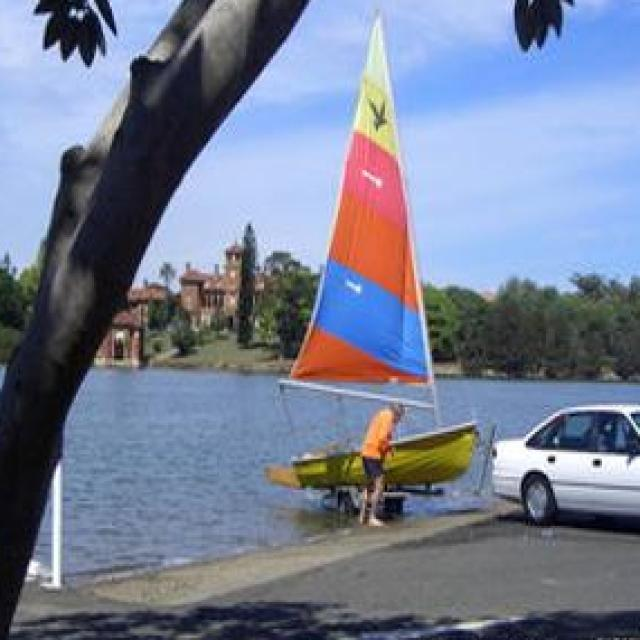sailboat: (262, 0, 476, 488)
